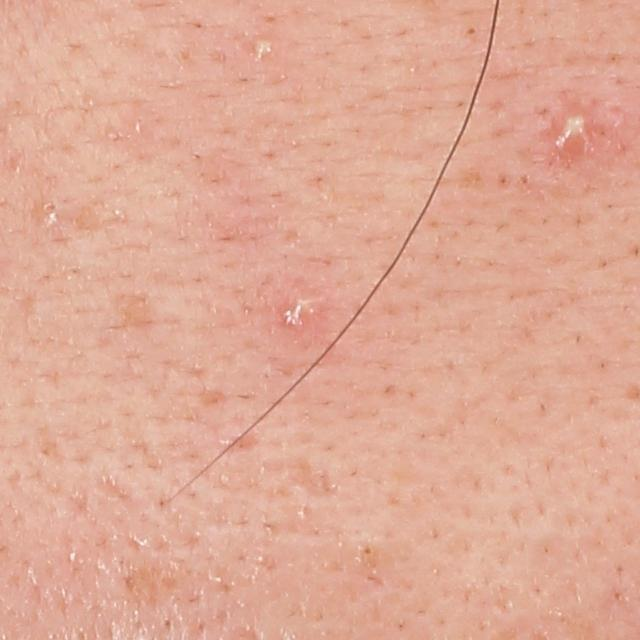atrophic_scar: (267, 456, 346, 507)
comedo: (41, 199, 62, 232), (358, 537, 382, 561)
pustule: (550, 106, 596, 156), (245, 31, 276, 64)
